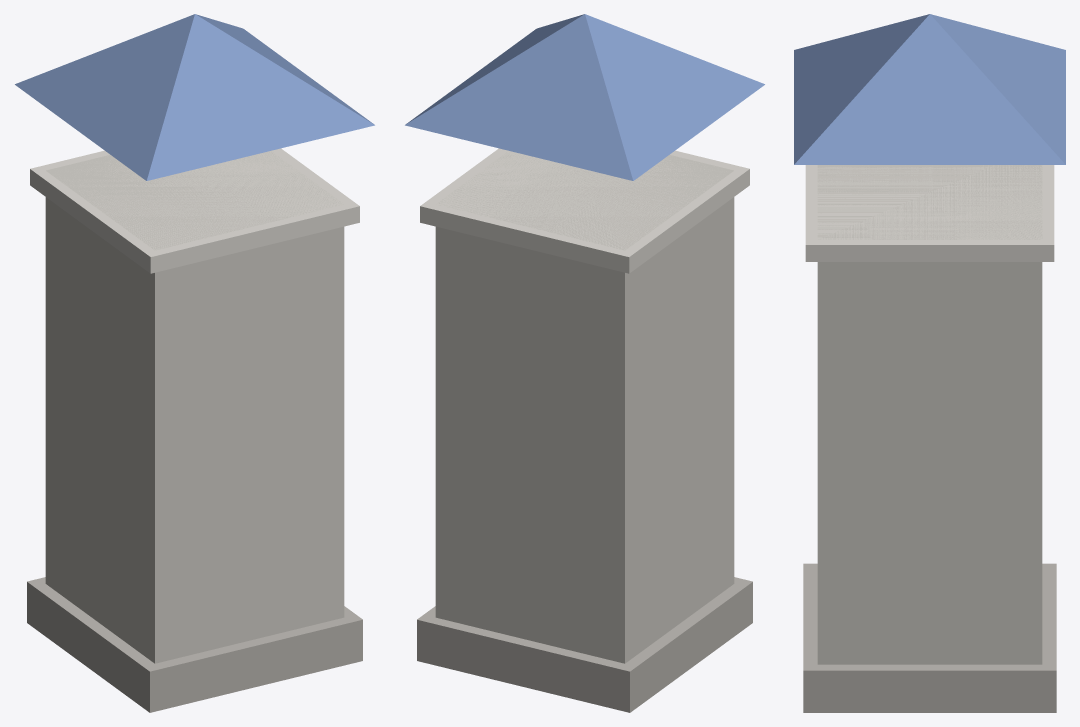
3 views of the same model, side by side, from view 1: azimuth 30°, elevation 25°; view 2: azimuth 150°, elevation 25°; view 3: azimuth 270°, elevation 25° (orthographic). The views are drawn at different scales.
Parts seen in each view (by area): view 1: body; view 2: body; view 3: body.
Boxes of the visible parts, x1=… form: body: x1=15, y1=14, x2=374, y2=712; body: x1=405, y1=14, x2=764, y2=712; body: x1=794, y1=14, x2=1065, y2=712.
Size of the model in its own units: 5.8 by 15.2 by 5.8.
